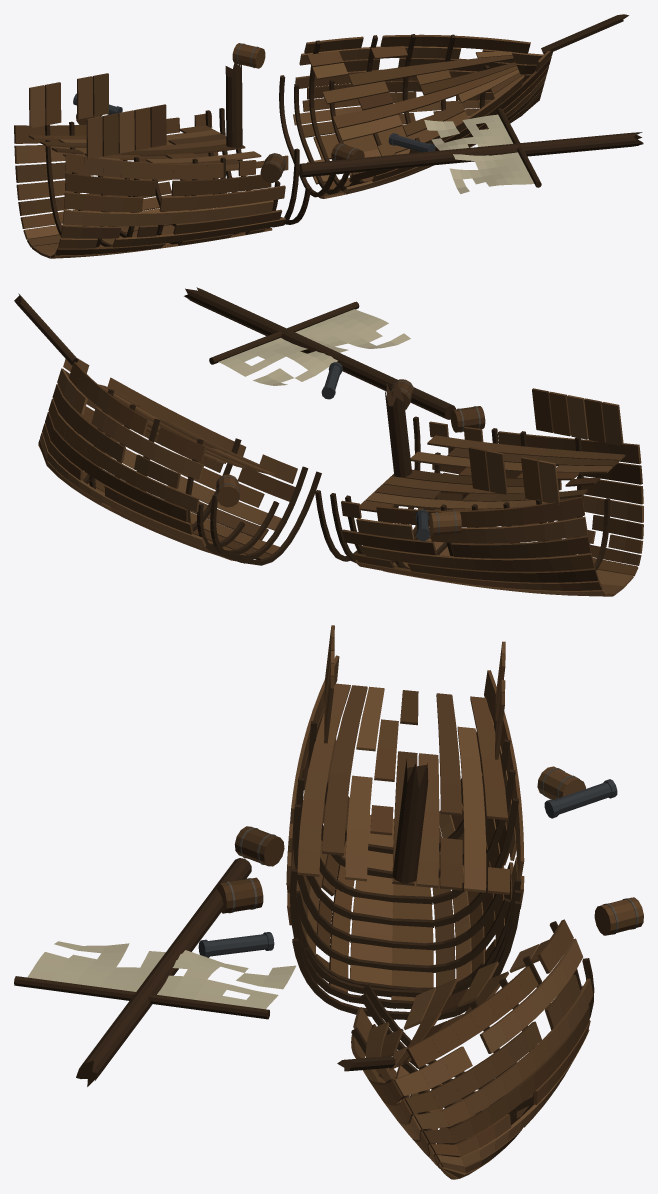
Rendered from naufragio_galeao.glb.
3 views of the same model, one above another, from view 1: azimuth 30°, elevation 25°; view 2: azimuth 150°, elevation 25°; view 3: azimuth 270°, elevation 25° (orthographic). The views are drawn at different scales.
Parts seen in each view (by area): view 1: naufragio_galeao; view 2: naufragio_galeao; view 3: naufragio_galeao.
Boxes of the visible parts, x1,y1,x2,y2 form: naufragio_galeao: (14,14,643,258); naufragio_galeao: (14,287,643,596); naufragio_galeao: (14,625,643,1179).
Bounding box in the file's own units: 25 × 7.4 × 16.14.
